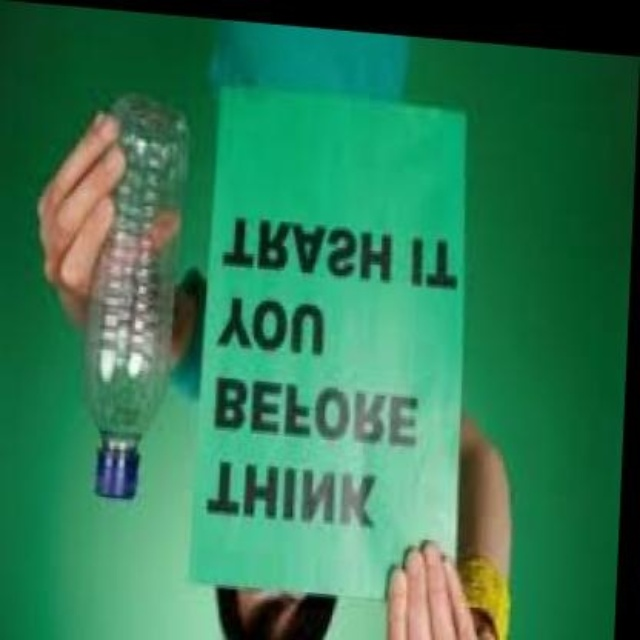trash: (86, 97, 186, 497)
